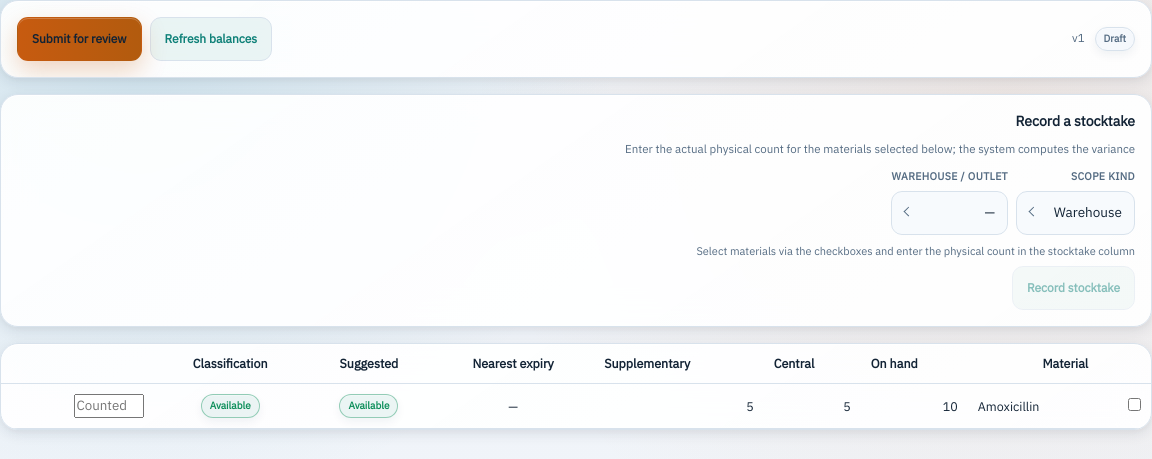
Test case: MonthlyPositionTab — loading/success/empty/error precedence (runtime, not source-scan) › a FAILED refresh never leaves the previous successful report rendered as if it were still current
Check: the text "Amoxicillin" is shown, box left=968, top=384, right=1098, bottom=429
Click the button "Refresh balances" at (211, 39), box left=150, top=17, right=272, bottom=61
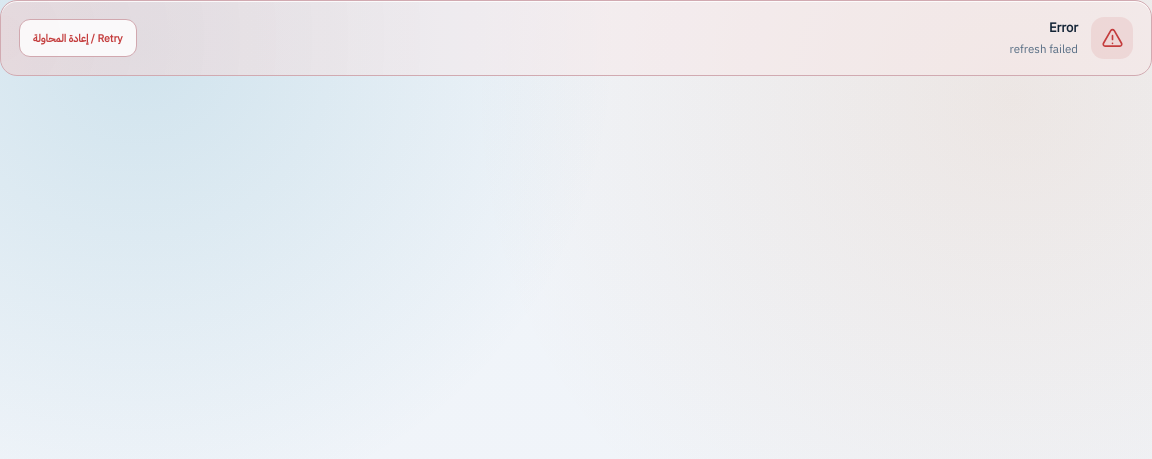
Check: the text "refresh failed" is shown, box left=1010, top=41, right=1078, bottom=58
Check: the text "Amoxicillin" is gone
